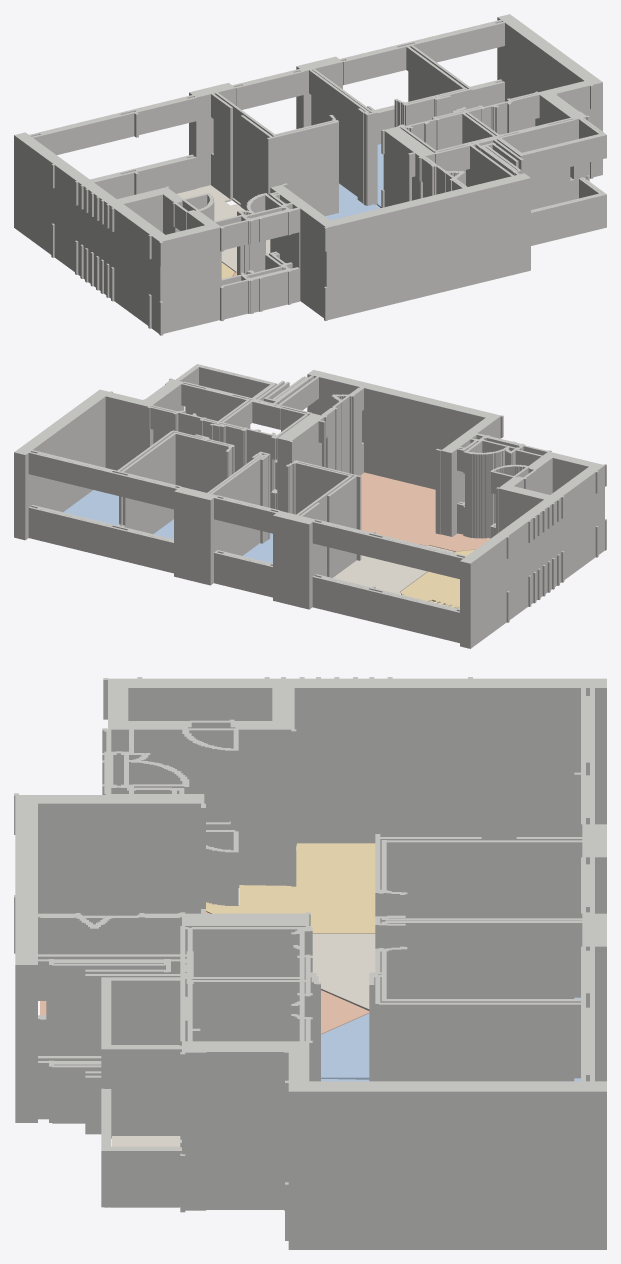
The picture shows the model from 3 angles, top to bottom: view 1: azimuth 30°, elevation 25°; view 2: azimuth 150°, elevation 25°; view 3: azimuth 270°, elevation 25°; orthographic projection. The views are drawn at different scales.
Visible parts, largest first — view 1: walls, room:other:2, room:bedroom:7; view 2: walls, room:kitchen:8, room:other:2, room:living:1, room:bedroom:9, room:bedroom:7; view 3: walls, room:living:1, room:other:2, room:bedroom:7, room:kitchen:8, room:other:18.
Part boxes in pixels (left/top/right/bottom): walls: left=14, top=14, right=606, bottom=335; room:other:2: left=177, top=185, right=270, bottom=272; room:bedroom:7: left=325, top=183, right=379, bottom=220; walls: left=14, top=364, right=606, bottom=648; room:kitchen:8: left=360, top=472, right=490, bottom=552; room:other:2: left=333, top=545, right=454, bottom=594; room:living:1: left=400, top=549, right=474, bottom=608; room:bedroom:9: left=63, top=490, right=118, bottom=525; room:bedroom:7: left=243, top=533, right=272, bottom=563; walls: left=14, top=677, right=606, bottom=1249; room:living:1: left=206, top=843, right=375, bottom=933; room:other:2: left=312, top=933, right=375, bottom=1010; room:bedroom:7: left=321, top=997, right=580, bottom=1079; room:kitchen:8: left=40, top=912, right=369, bottom=1034; room:other:18: left=112, top=1136, right=180, bottom=1146.
Bounding box in the file's own units: 15.75 × 2.8 × 9.52.
